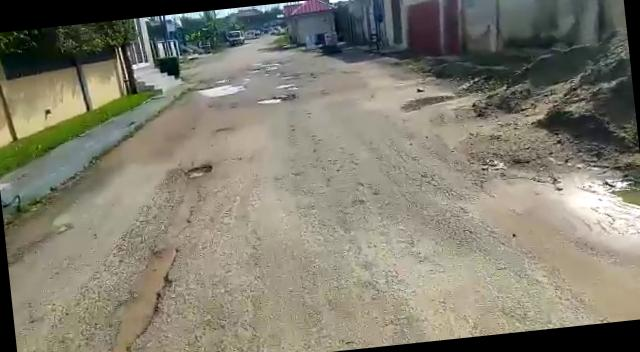pothole: (193, 82, 247, 100), (184, 164, 214, 178), (256, 93, 292, 104)
